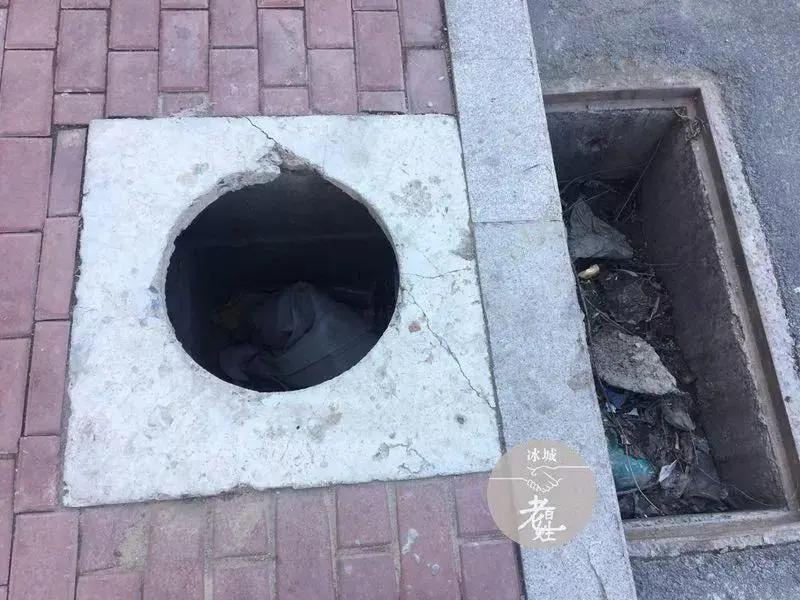wellcover: (530, 94, 800, 557), (167, 164, 400, 403)
